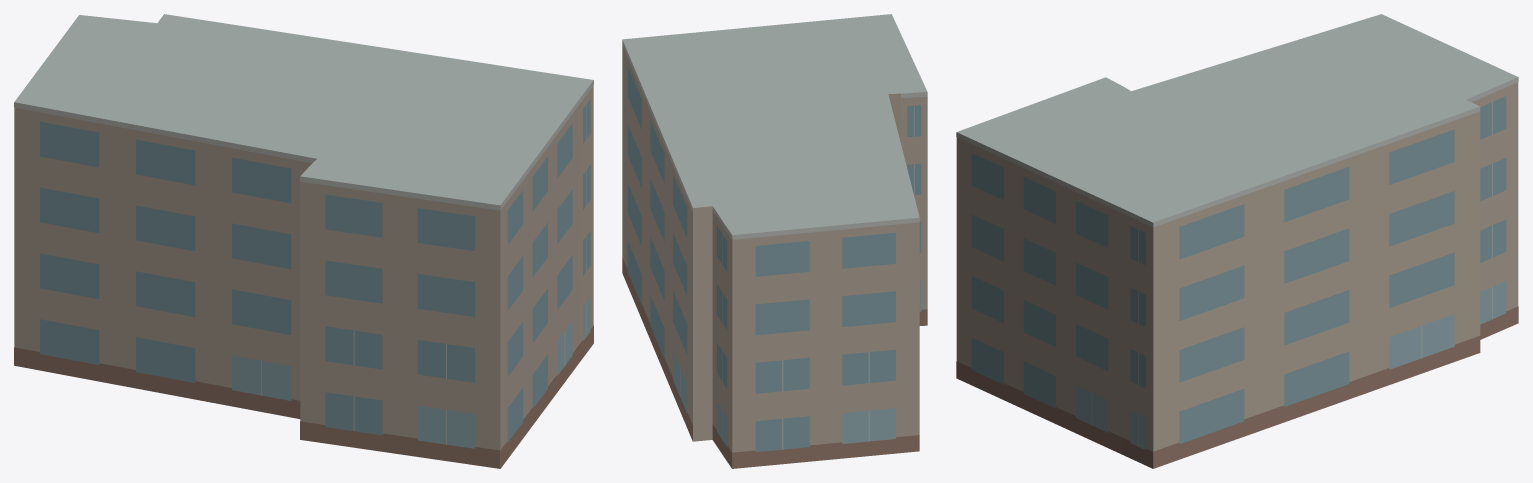
Rendered from survey-upis-32924994.glb.
3 renders of one model, left to right at view 1: azimuth 30°, elevation 25°; view 2: azimuth 150°, elevation 25°; view 3: azimuth 270°, elevation 25°, orthographic. The views are drawn at different scales.
Parts seen in each view (by area): view 1: survey-upis-32924994.tmp; view 2: survey-upis-32924994.tmp; view 3: survey-upis-32924994.tmp.
Boxes of the visible parts, box(x1,y1,x2,y2) form: survey-upis-32924994.tmp: box(14, 14, 593, 468); survey-upis-32924994.tmp: box(622, 14, 927, 468); survey-upis-32924994.tmp: box(956, 14, 1518, 468).
Size of the model in its own units: 22.36 by 12.3 by 25.45.
